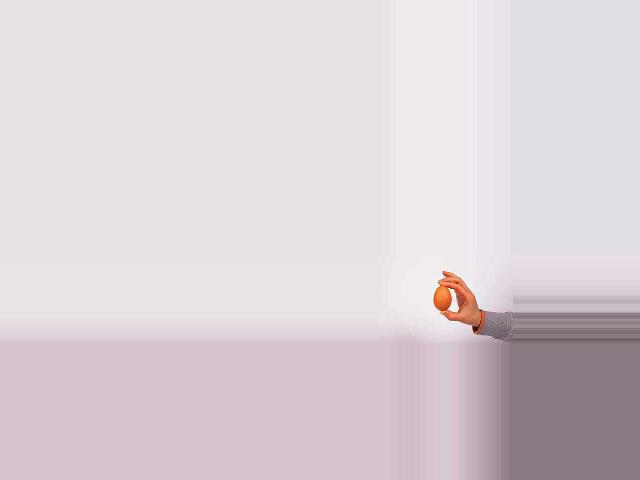egg: (433, 285, 450, 310)
